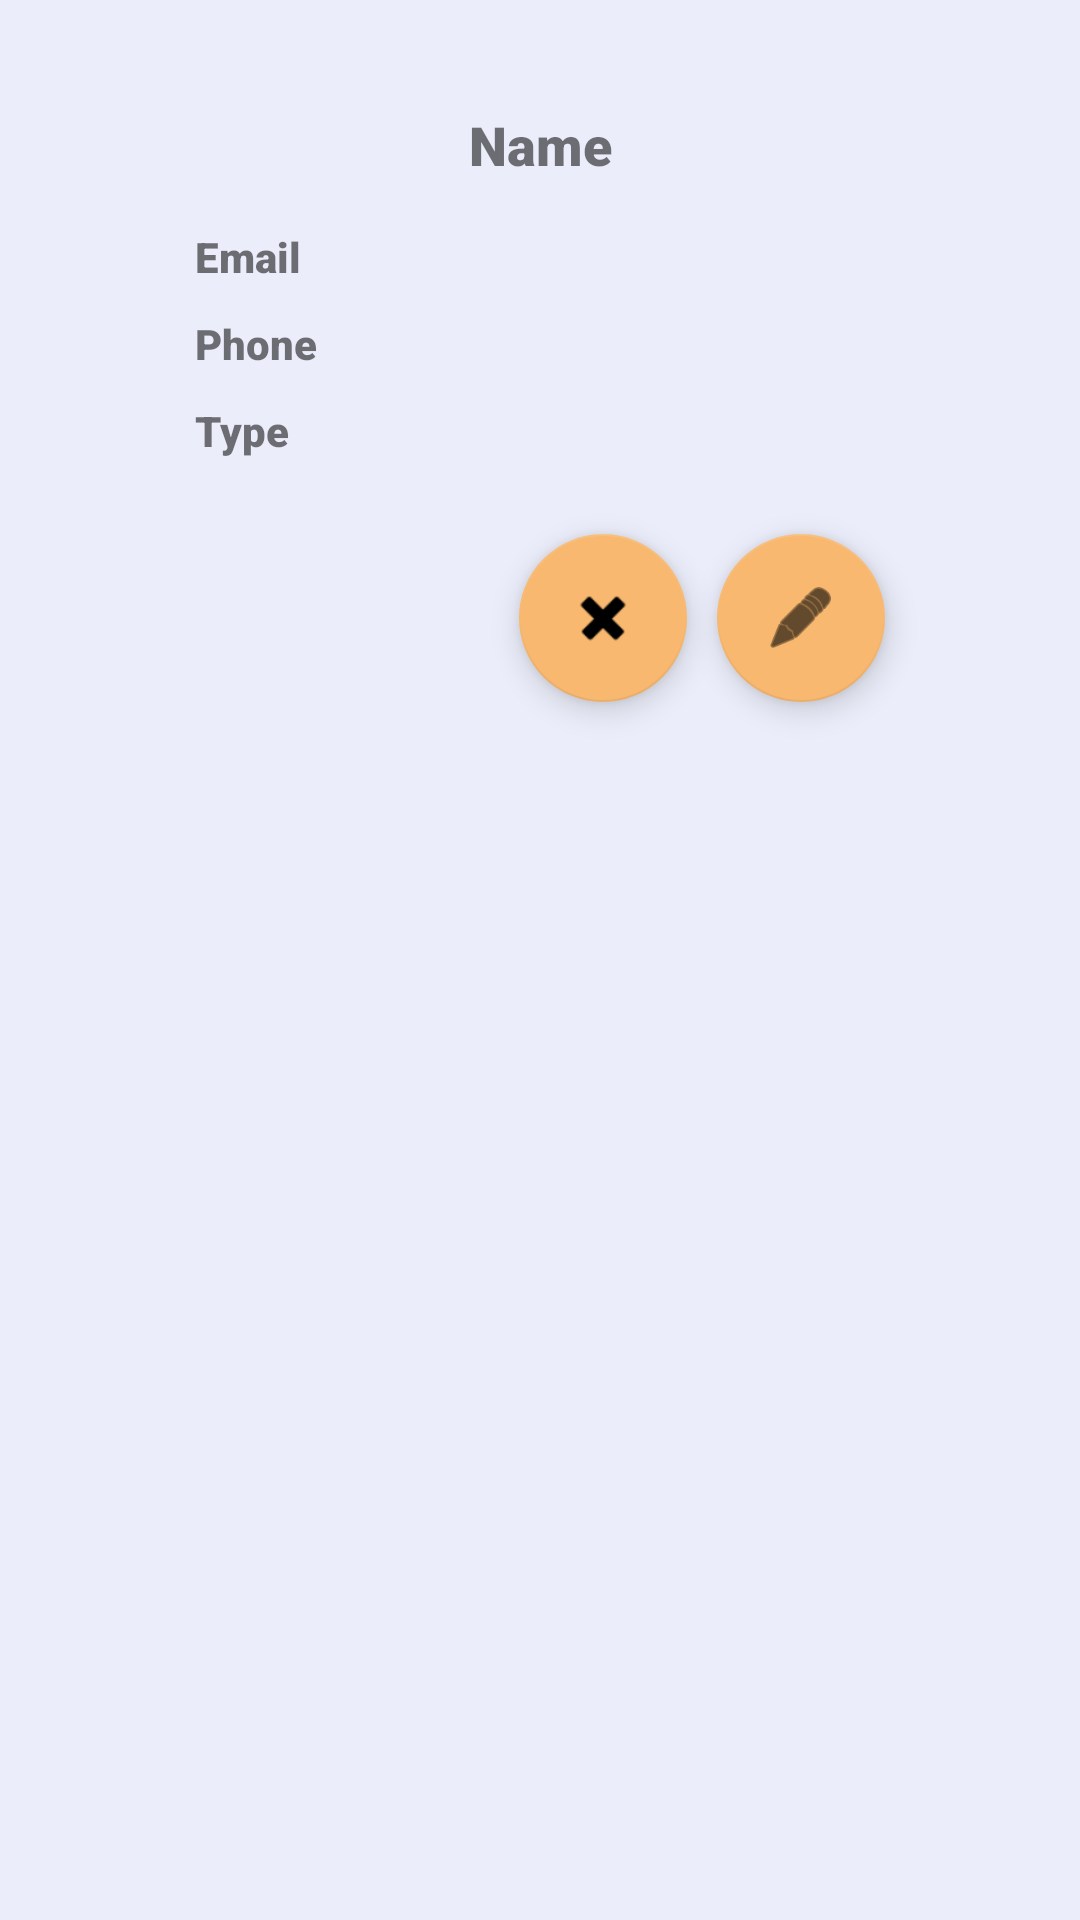

Where to tap for icons on this 1080px x 1920px app screen, as [x,y]:
delete: [603,618]
edit: [801,618]
